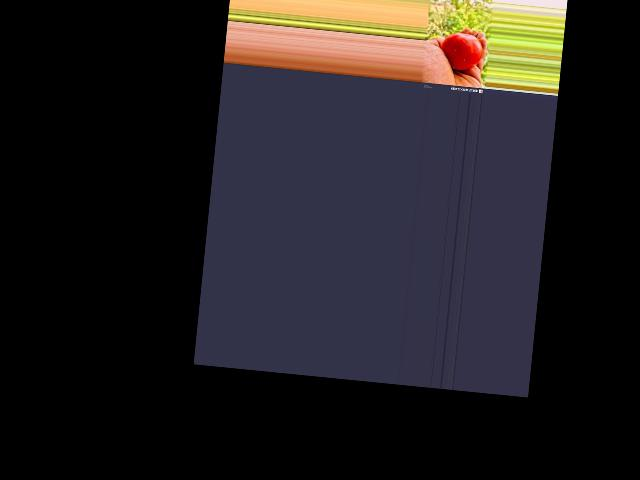tomato: (439, 31, 483, 71)
